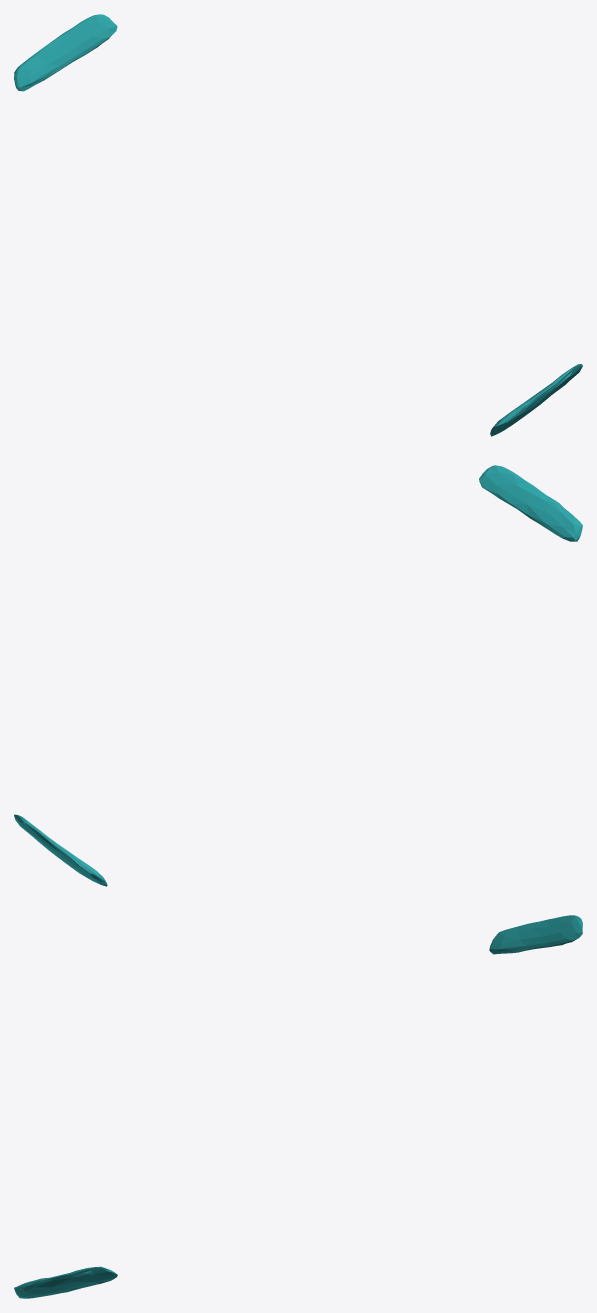
The picture shows the model from 3 angles, top to bottom: view 1: azimuth 30°, elevation 25°; view 2: azimuth 150°, elevation 25°; view 3: azimuth 330°, elevation 25°; orthographic projection.
Visible parts, largest first — view 1: 312782578.obj; view 2: 312782578.obj; view 3: 312782578.obj.
Part boxes in pixels (x1,y1,x2,y2): 312782578.obj: [14, 14, 582, 436]; 312782578.obj: [14, 465, 582, 886]; 312782578.obj: [14, 915, 582, 1298].
Bounding box in the file's own units: 980 × 521 × 8505.
